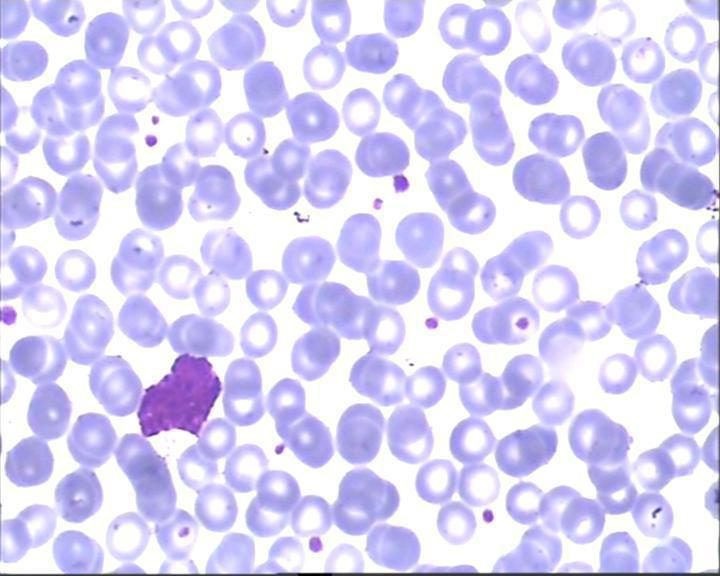baso: (132, 346, 224, 444)
